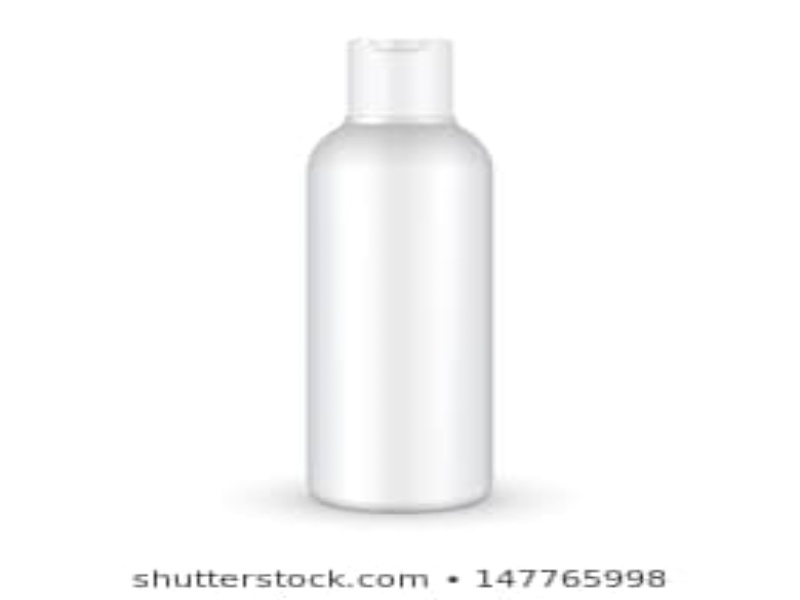shampoo-bottle: (305, 31, 492, 516)
